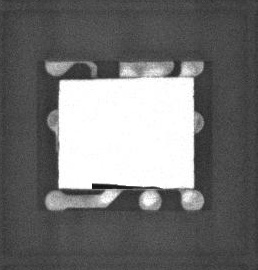DIE_BROKEN: (91, 181, 164, 191)
